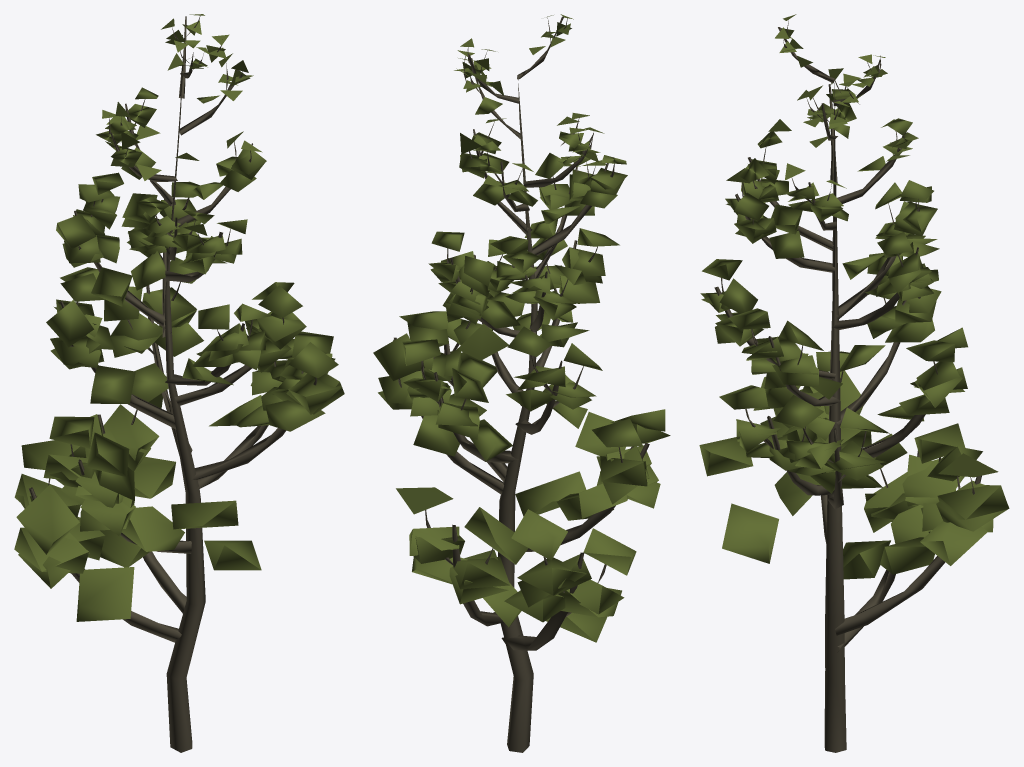
Rendered from Tree_BlackWillow_008.fbx.
3 renders of one model, left to right at view 1: azimuth 30°, elevation 25°; view 2: azimuth 150°, elevation 25°; view 3: azimuth 270°, elevation 25°, orthographic.
Parts seen in each view (by area): view 1: Tree_BlackWillow.008; view 2: Tree_BlackWillow.008; view 3: Tree_BlackWillow.008.
Boxes of the visible parts, bbox=[...] form: Tree_BlackWillow.008: bbox=[14, 14, 344, 752]; Tree_BlackWillow.008: bbox=[373, 14, 670, 752]; Tree_BlackWillow.008: bbox=[699, 14, 1009, 752].
Bounding box in the file's own units: 1214 × 2991 × 1164.
